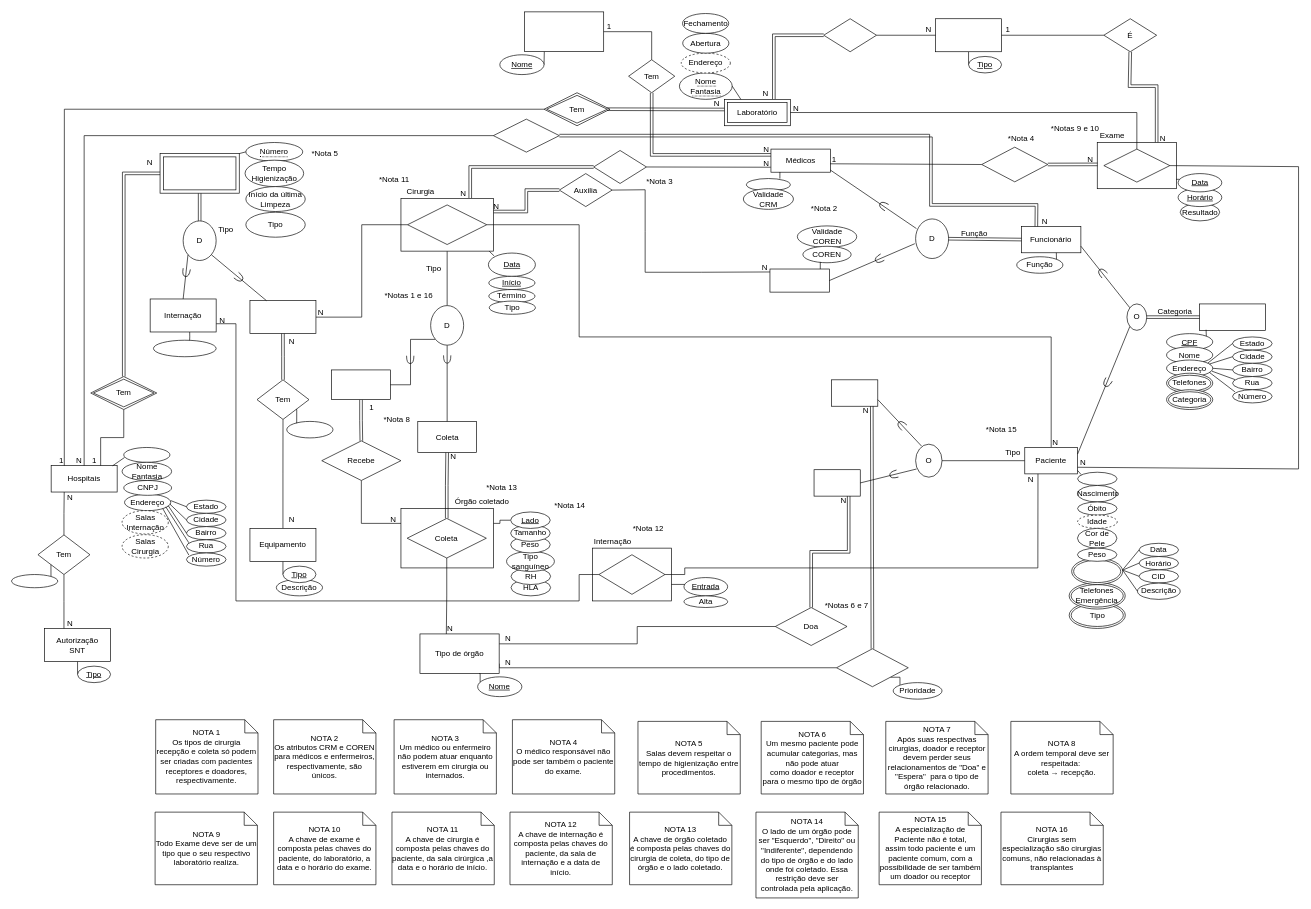
The diagram is 1311 pixels wide and 909 high, and some of its shapes have lost their labels. Here are the shapes that lost their labels. From the top down, the centre of each, then its label:
At [564,31]: "Especialidades Médicas".
At [850,35]: "Realiza".
At [968,35]: "Tipo de Exame".
At [526,135]: "Trabalha".
At [199,173]: "Sala".
At [619,166]: "Opera".
At [768,184]: "CRM".
At [1014,164]: "Supervisiona".
At [1136,165]: "Examina".
At [447,224]: "É operado em".
At [799,280]: "Enfermeiros".
At [282,317]: "Cirúrgica".
At [1232,316]: "Pessoa".
At [184,348]: "Número Leitos".
At [360,384]: "Recepção".
At [854,392]: "Receptor".
At [309,429]: "Quantidade".
At [146,454]: "CNES".
At [836,482]: "Doador".
At [1097,478]: "Sexo".
At [34,581]: "Validade".
At [631,574]: "Interna".
At [1097,571]: "Histórico Médico".
At [872,667]: "Espera".
